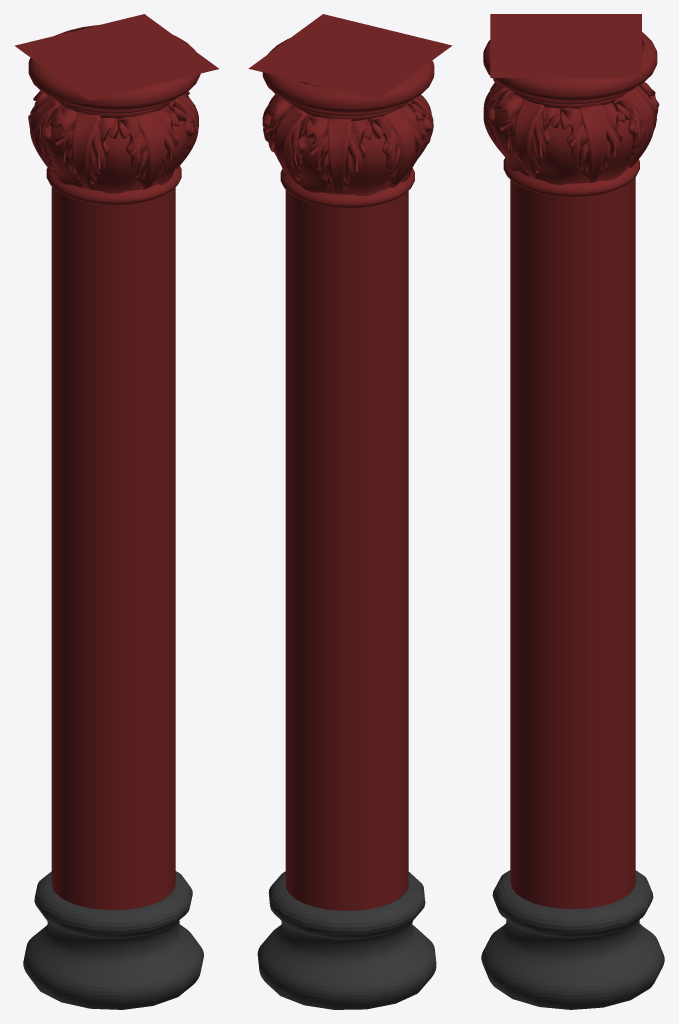
The picture shows the model from 3 angles, left to right: view 1: azimuth 30°, elevation 25°; view 2: azimuth 150°, elevation 25°; view 3: azimuth 270°, elevation 25°; orthographic projection.
Visible parts, largest first — view 1: Group13; view 2: Group13; view 3: Group13.
Boxes of the visible parts, <box> form: Group13: <box>14,14,218,1009</box>; Group13: <box>248,14,452,1009</box>; Group13: <box>481,14,664,1009</box>.
Size of the model in its own units: 100 by 561 by 100.
